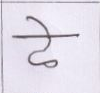e_matra: (27, 16, 55, 34)
